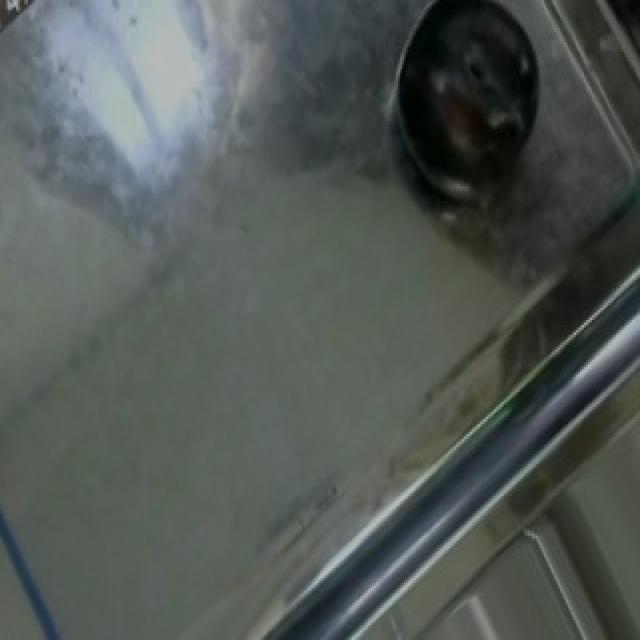Fruit: (376, 0, 570, 206), (0, 0, 52, 57)
